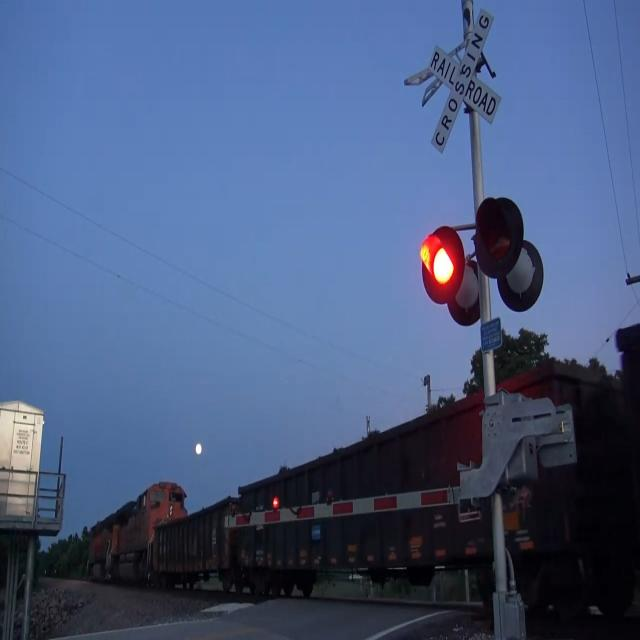gondola: (235, 348, 619, 622), (148, 491, 238, 604)
locomotive: (110, 477, 190, 597)
